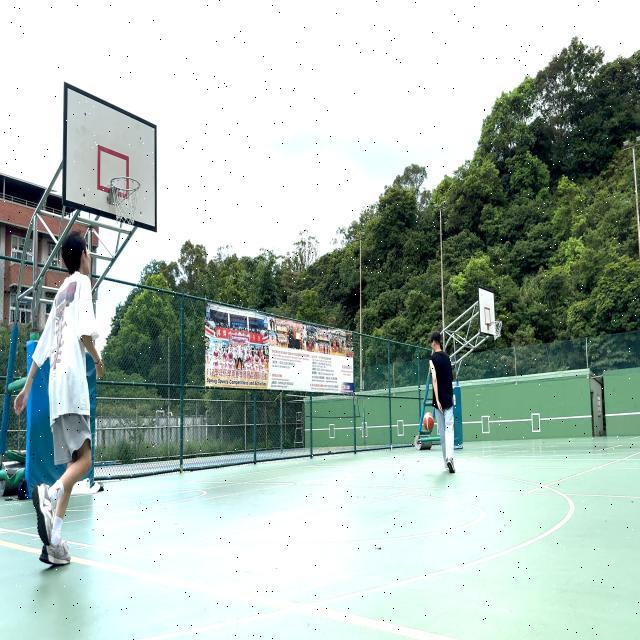ball: (422, 411, 436, 434)
hoop: (104, 175, 149, 196), (483, 319, 507, 326)
